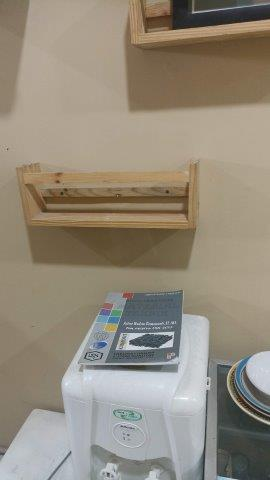kertas: (77, 288, 182, 371)
